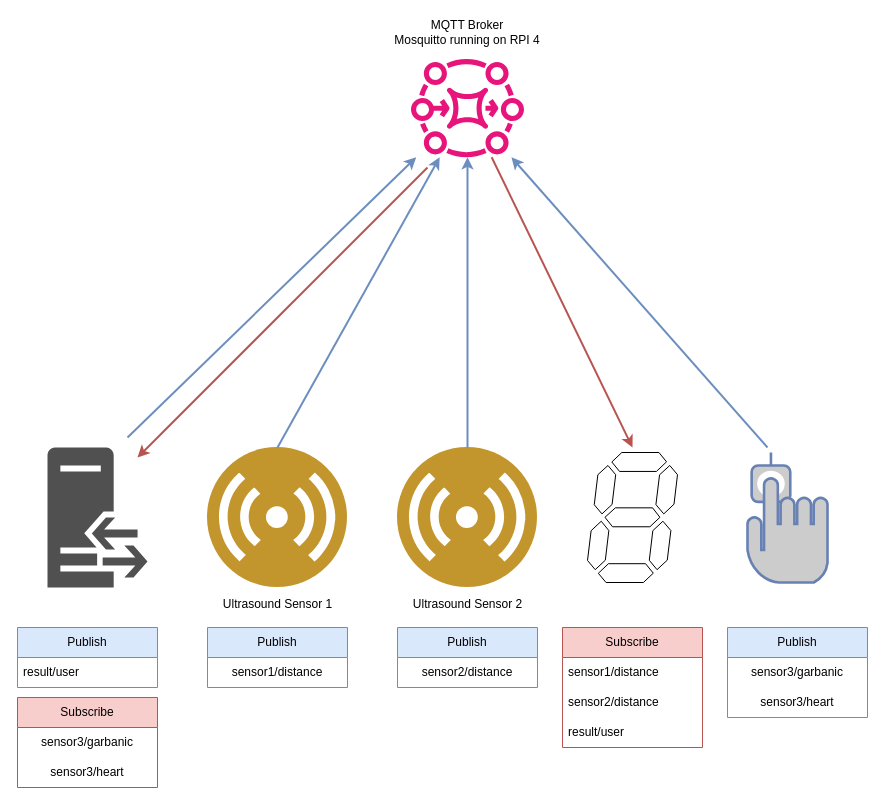
This 885x805 diagram has some shape labels left out. Each missing label, with the centre of its shape:
"Raspberry Pi 4 4GB" belongs at (97,517).
"System Monitor" belongs at (632,517).
"User Data Collector" belongs at (787,517).
